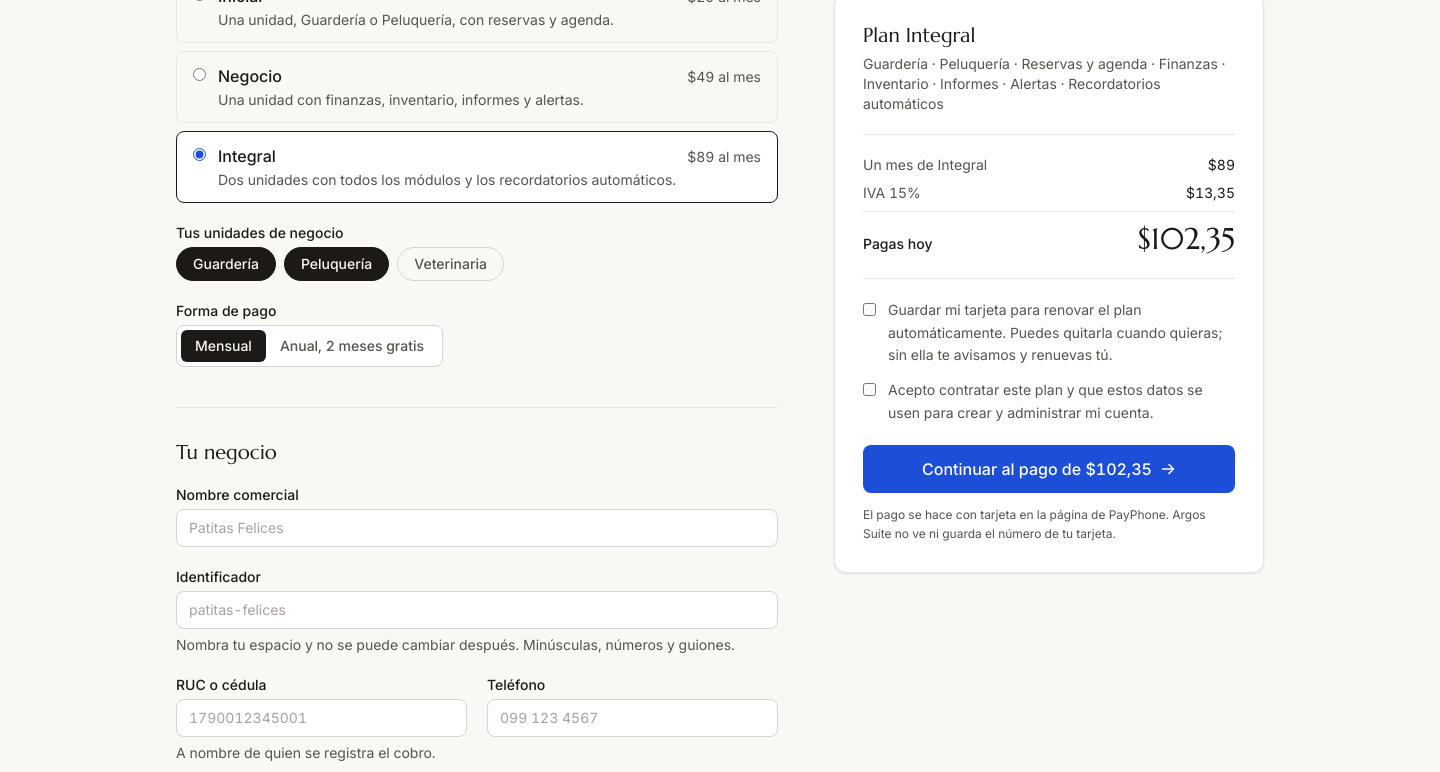
Scenario: signing up from the public page › does not send a form with missing or malformed fields
(page scrolled)
Click the button "Continuar al pago de $102,35".
click(1049, 469)  # box [863,445,1235,493]
(page scrolled)
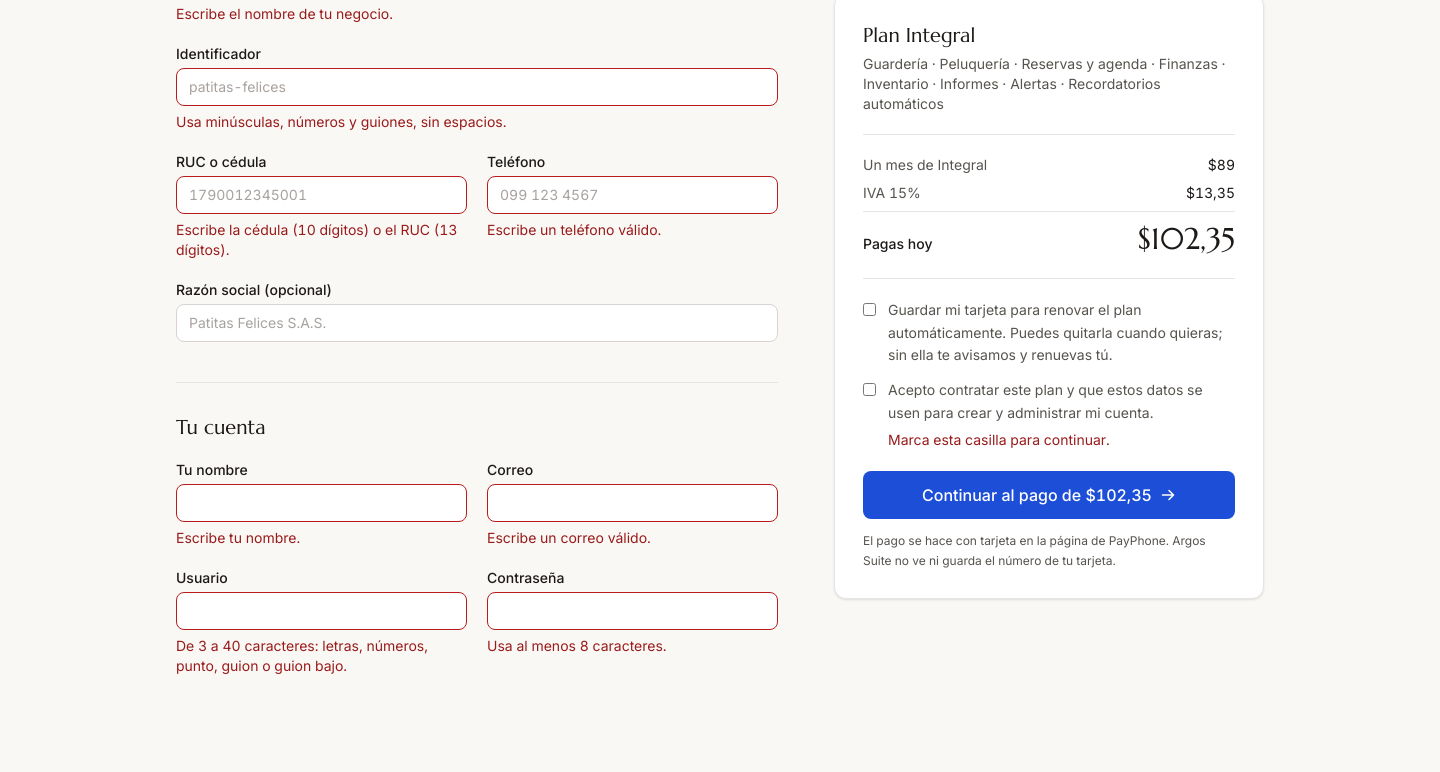
Now the text "Escribe el nombre de tu negocio." is shown, box [176,5,393,22]
Now the text "Usa al menos 8 caracteres." is shown, box [487,637,667,654]
